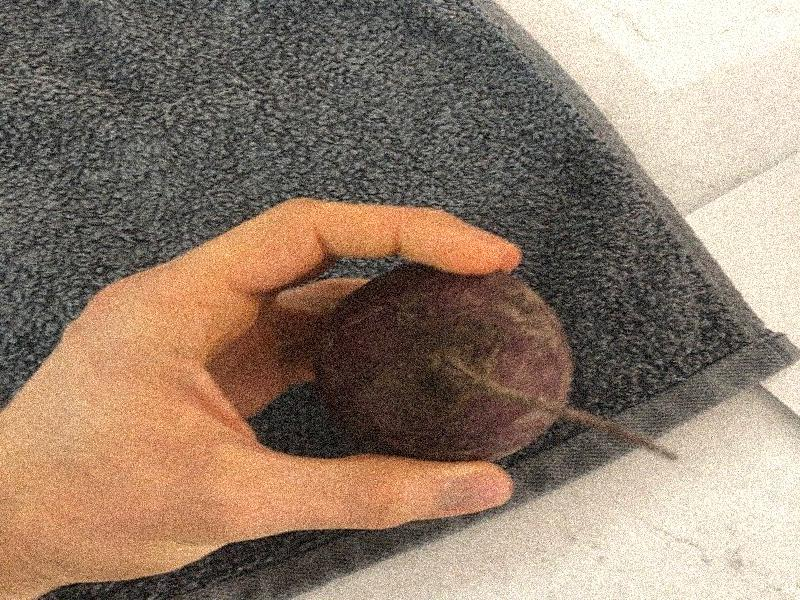Beet: (315, 263, 679, 462)
